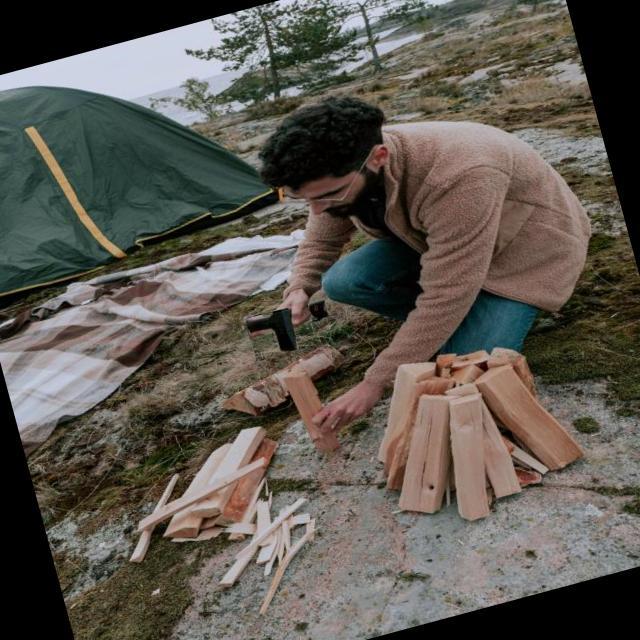Axe: (246, 307, 297, 350), (309, 300, 328, 318)
